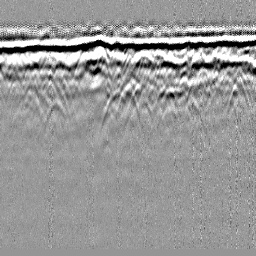cavity: (117, 81, 140, 119)
